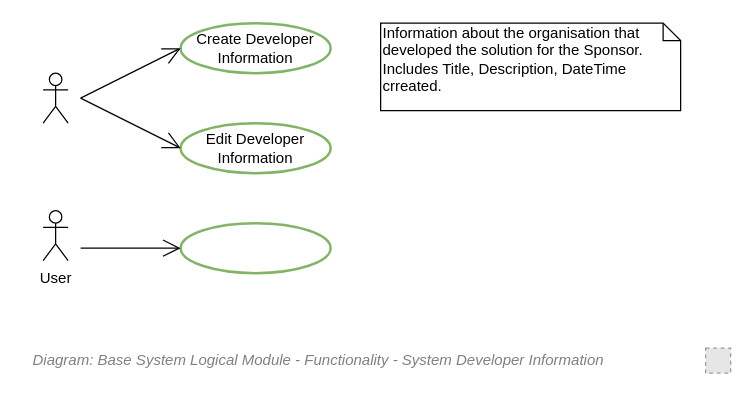
Image size: 753x395. Some labels were removed from this diagram. Grey dashed boxes stand in for pictures. The centre of each missing label's shape, as x and y in pixels:
"Developer" goes at (x=55, y=97).
"Read Developer Information" goes at (x=255, y=247).
